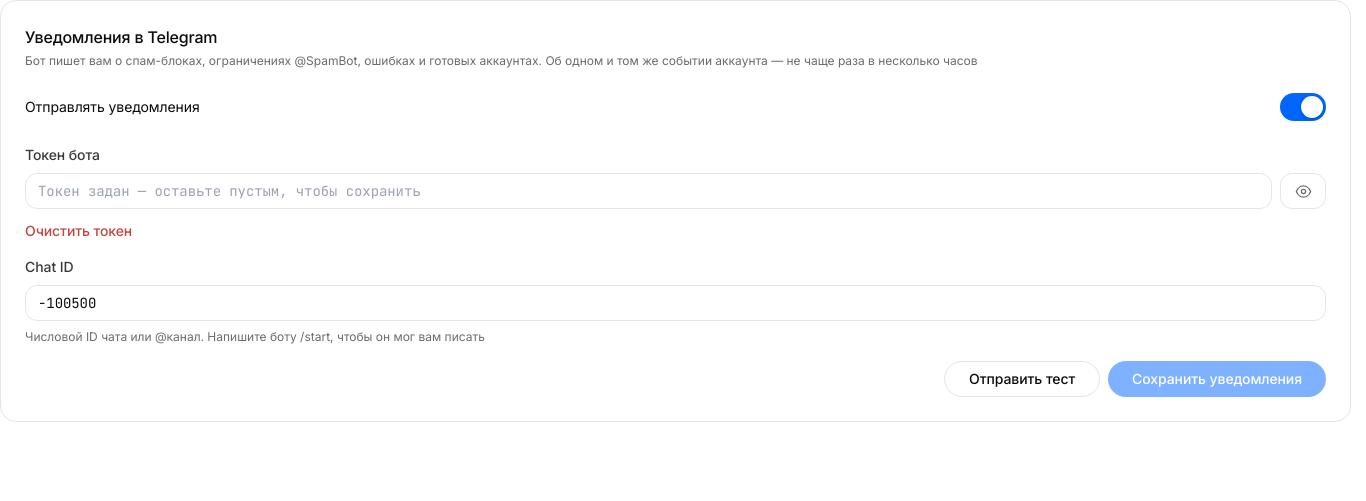
Scenario: the test button reports a delivered message
Click the button "Отправить тест".
click(1022, 379)  # box x1=944 y1=361 x2=1100 y2=397
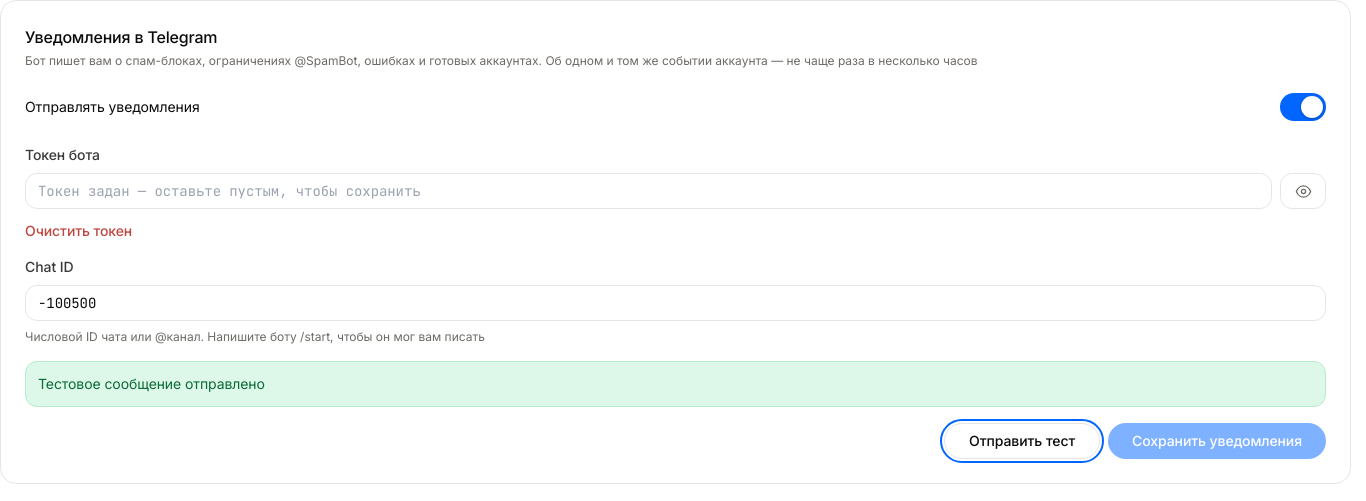
Check: the message reads "Тестовое сообщение отправлено", box x1=38 y1=375 x2=265 y2=392
